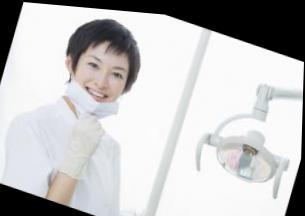WRONG: (65, 45, 131, 119)
